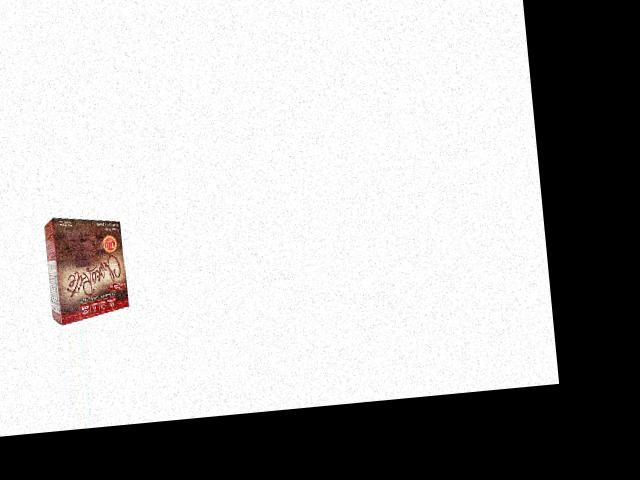chocolate: (43, 211, 132, 323)
